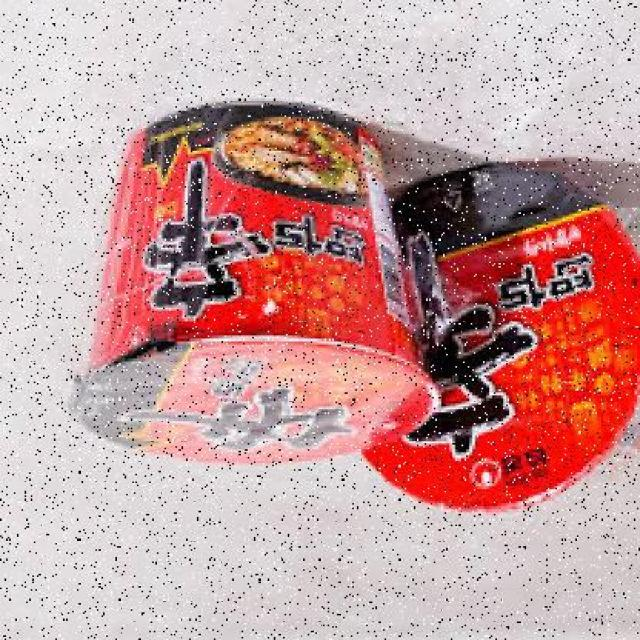Miscellaneous: (68, 116, 440, 459), (346, 160, 640, 525)
